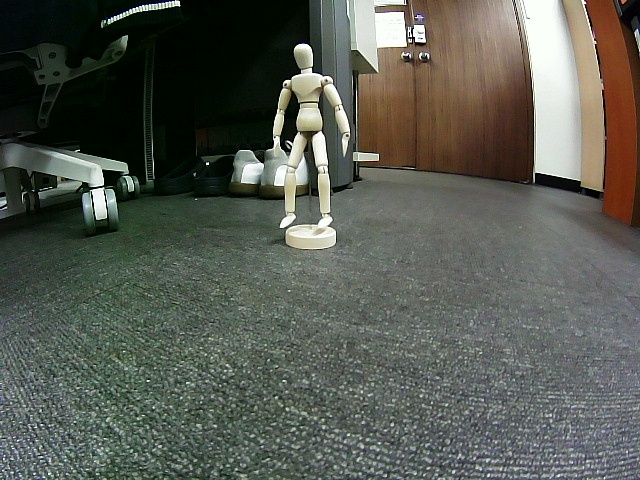person: (271, 43, 350, 227)
